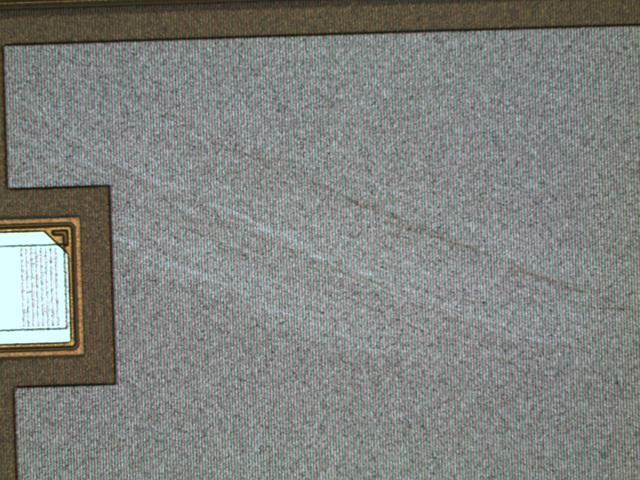SCRATCH: (1, 1, 640, 369)
